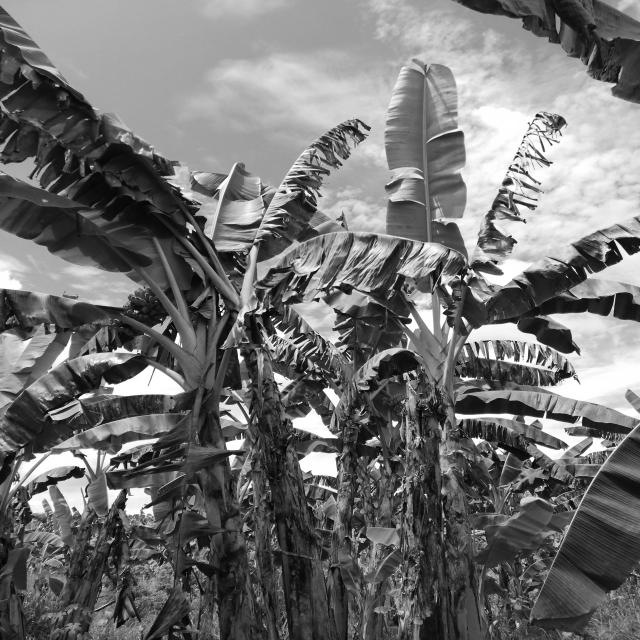Banana-plant: (229, 259, 325, 640), (162, 308, 260, 640), (416, 328, 502, 640)
